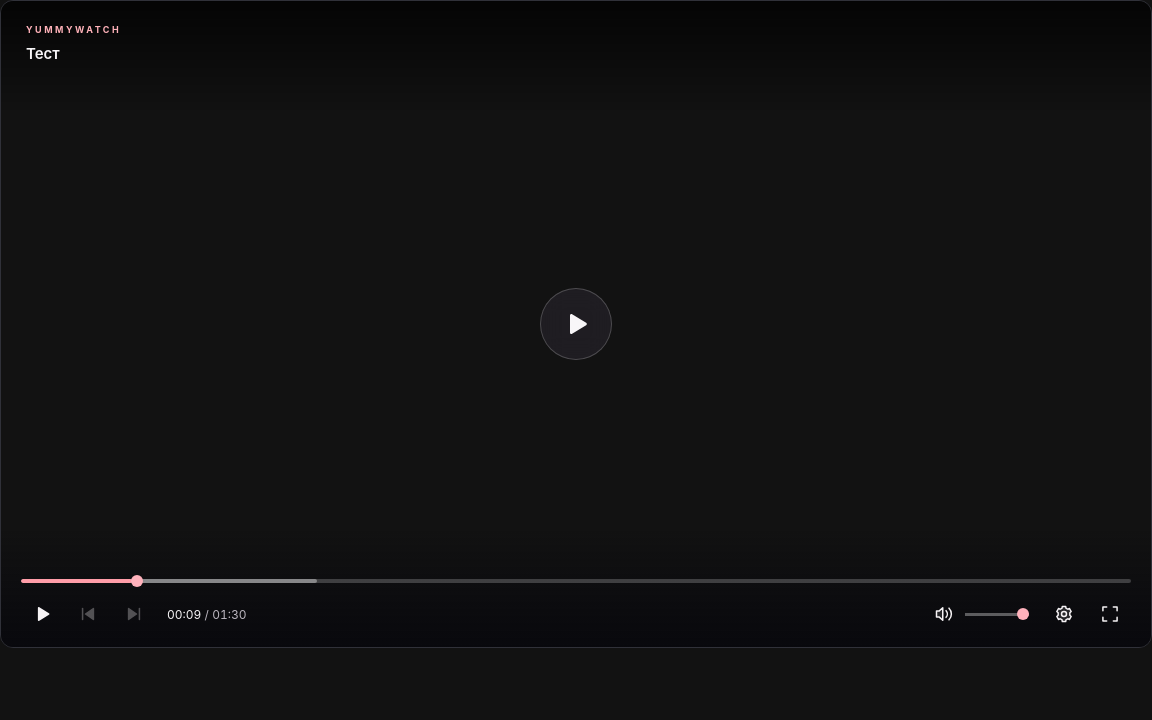
Test case: runs the macOS controls through the native surface without mounting HTML video
Later steps or results of the test are not shown.
Click the button named "Настройки плеера".
click(1064, 614)  # box left=1043, top=593, right=1085, bottom=635
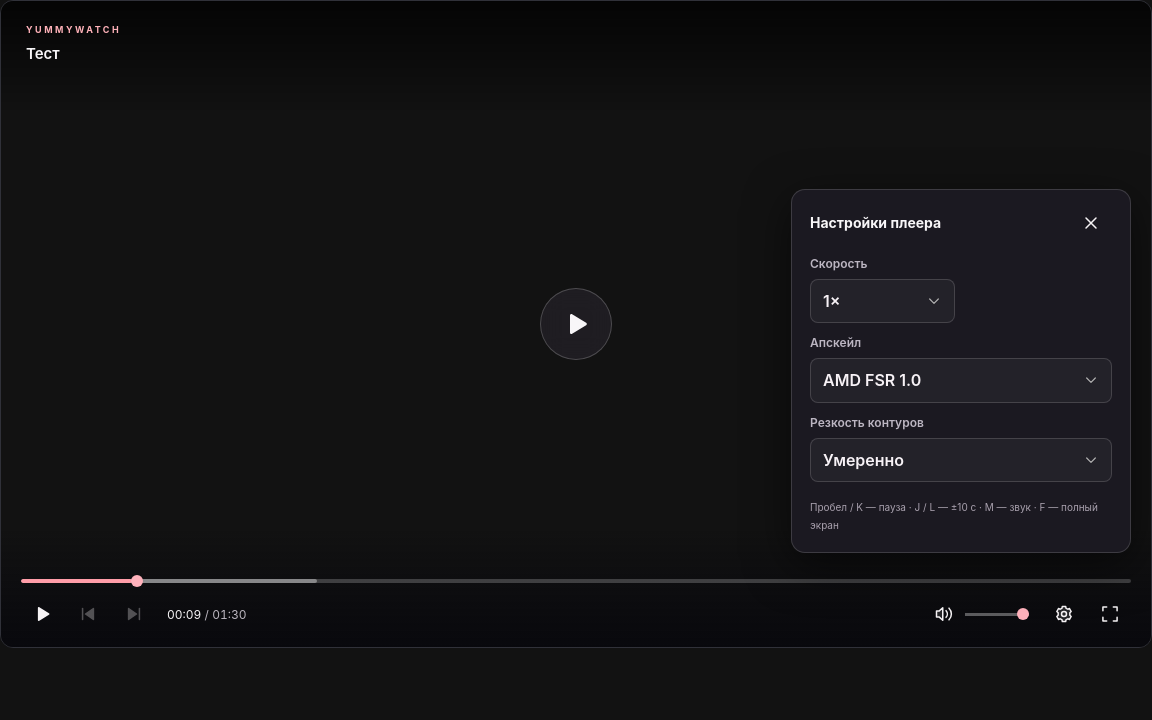
Check: the dropdown named "Апскейл видео" holds "fsr", box left=810, top=358, right=1112, bottom=403
Check: the dropdown named "Резкость контуров" holds "moderate", box left=810, top=438, right=1112, bottom=482
